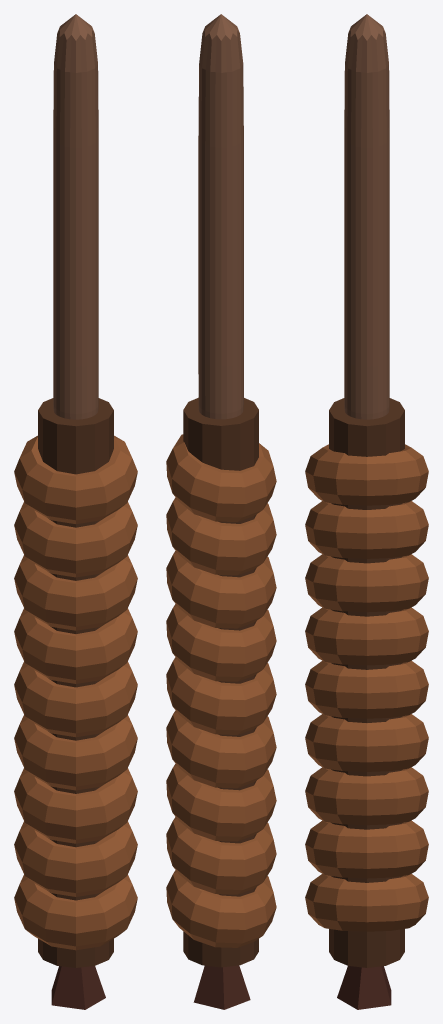
Rendered from Wand 418.glb.
3 renders of one model, left to right at view 1: azimuth 90°, elevation 25°; view 2: azimuth 150°, elevation 25°; view 3: azimuth 270°, elevation 25°, orthographic.
Visible parts, largest first — view 1: GeneratedWand; view 2: GeneratedWand; view 3: GeneratedWand.
Boxes of the visible parts, x1,y1,x2,y2 form: GeneratedWand: [14, 14, 137, 1009]; GeneratedWand: [166, 14, 276, 1009]; GeneratedWand: [305, 14, 428, 1009].
Bounding box in the file's own units: 0.0497 × 0.5097 × 0.0581.
